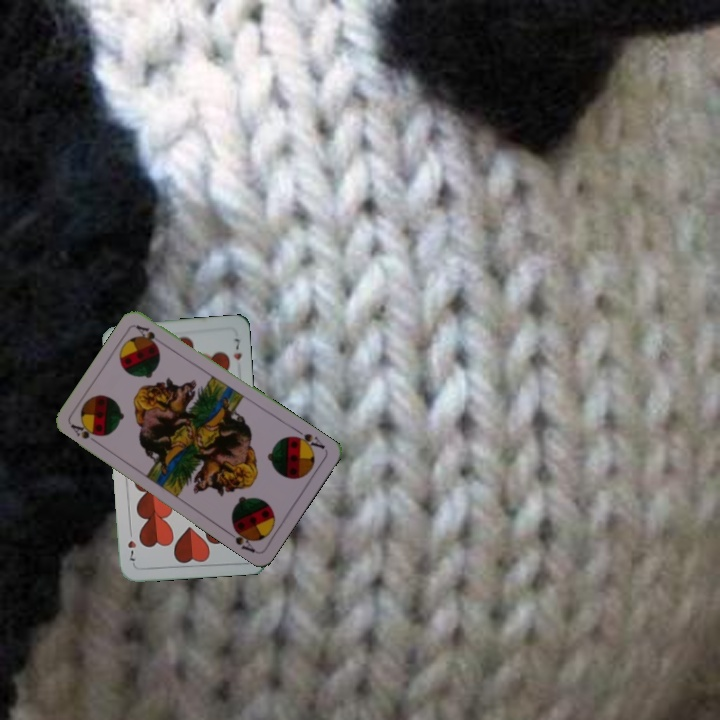SA: (288, 425, 328, 454), (67, 420, 103, 448)
